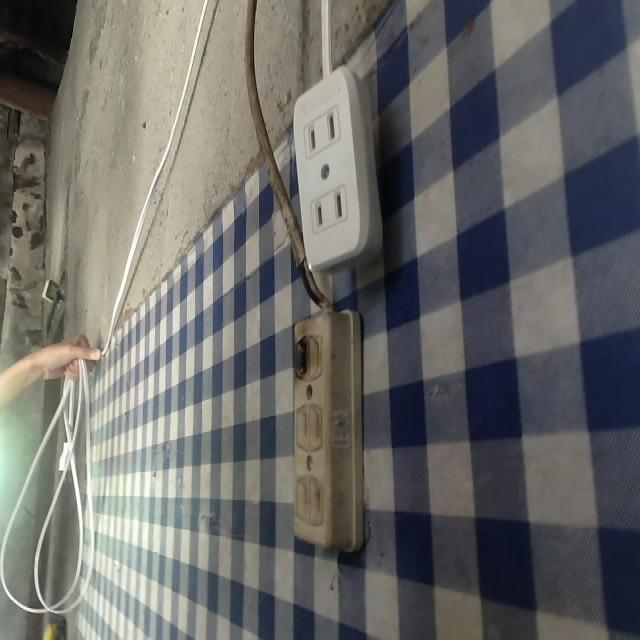-: (284, 332, 315, 380)
